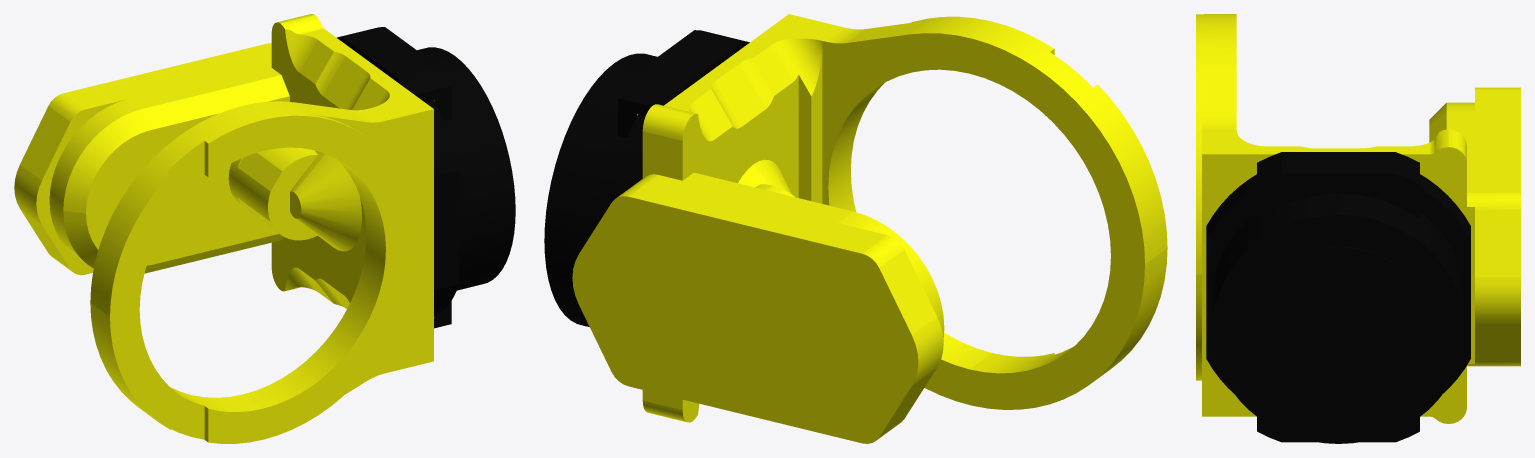
The picture shows the model from 3 angles, left to right: view 1: azimuth 30°, elevation 25°; view 2: azimuth 150°, elevation 25°; view 3: azimuth 270°, elevation 25°; orthographic projection. The views are drawn at different scales.
Parts seen in each view (by area): view 1: Mesh_0; view 2: Mesh_0; view 3: Mesh_0.
Part boxes in pixels (left/top/right/bottom): Mesh_0: left=14, top=14, right=515, bottom=443; Mesh_0: left=544, top=14, right=1167, bottom=443; Mesh_0: left=1196, top=14, right=1520, bottom=443.
Size of the model in its own units: 0.2445 by 0.1595 by 0.18.
